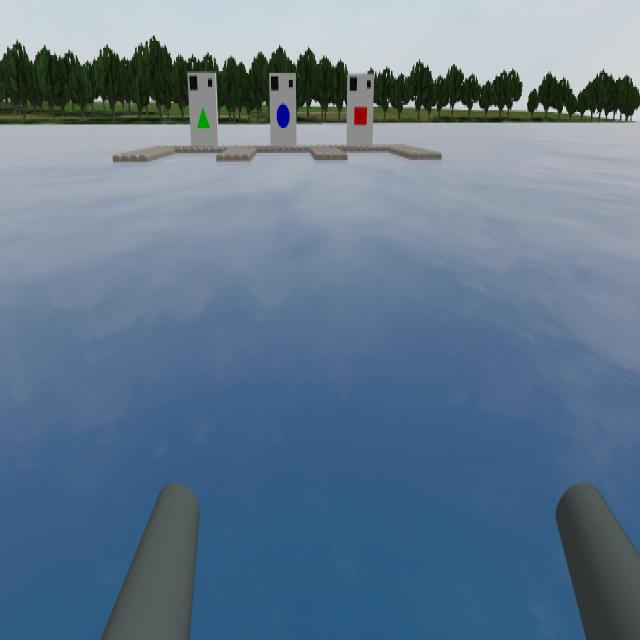dock: (189, 76, 219, 150), (268, 74, 298, 148), (348, 70, 373, 144)
